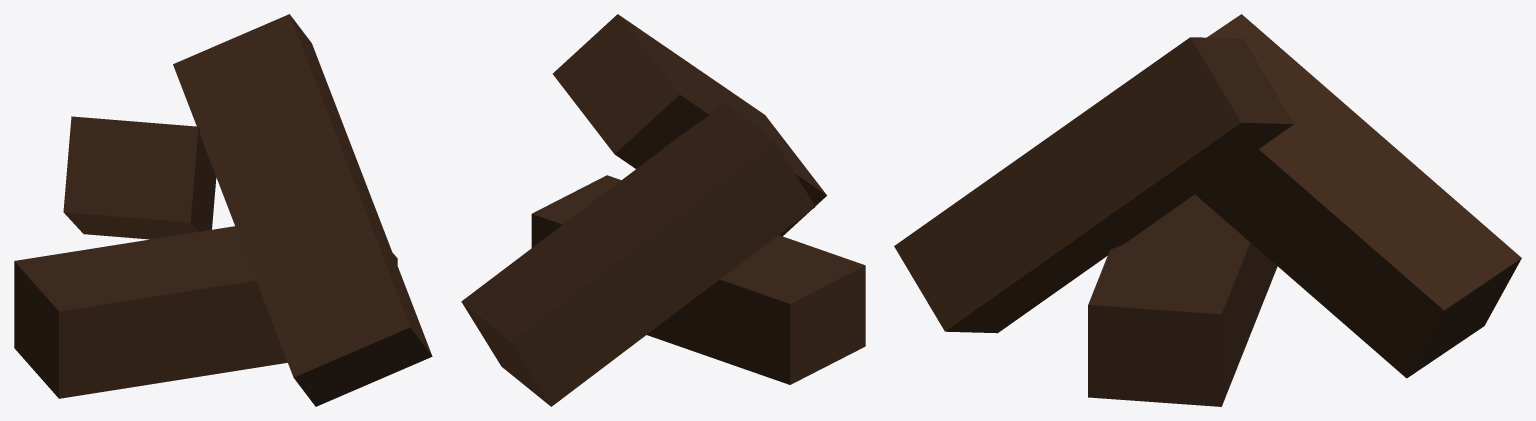
Rendered from noonwood_trio.fbx.
3 renders of one model, left to right at view 1: azimuth 30°, elevation 25°; view 2: azimuth 150°, elevation 25°; view 3: azimuth 270°, elevation 25°, orthographic. The views are drawn at different scales.
Parts seen in each view (by area): view 1: Noonwood Trio; view 2: Noonwood Trio; view 3: Noonwood Trio.
Part boxes in pixels (x1=…): Noonwood Trio: x1=14, y1=14, x2=432, y2=406; Noonwood Trio: x1=461, y1=14, x2=865, y2=406; Noonwood Trio: x1=894, y1=14, x2=1521, y2=406.
Bounding box in the file's own units: 41.51 × 37.71 × 65.14.
